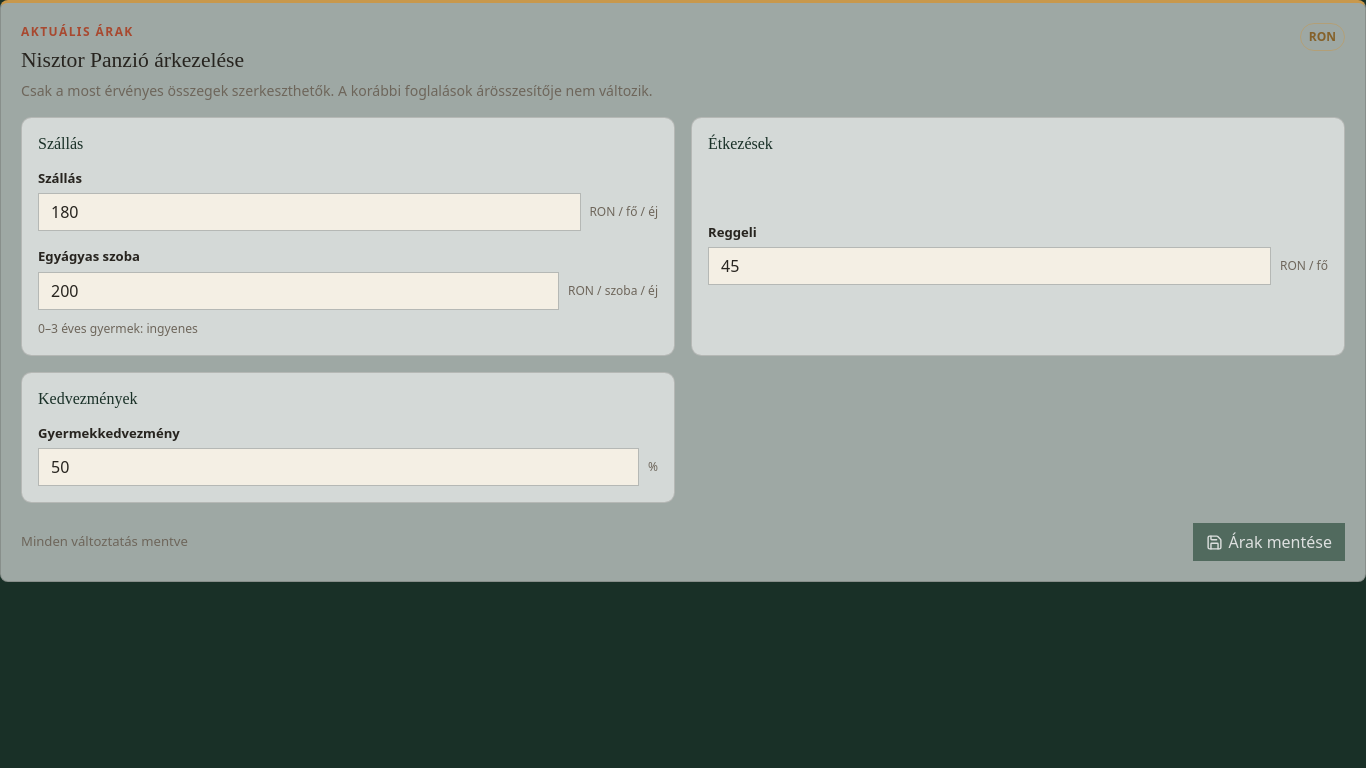
Test case: AdminGuesthousePricingEditor › loads, edits, and saves the current guesthouse prices
Replace the text in the number field labelled "Szállás" with "195": (309, 212) top-left (38, 194), bottom-right (581, 232)
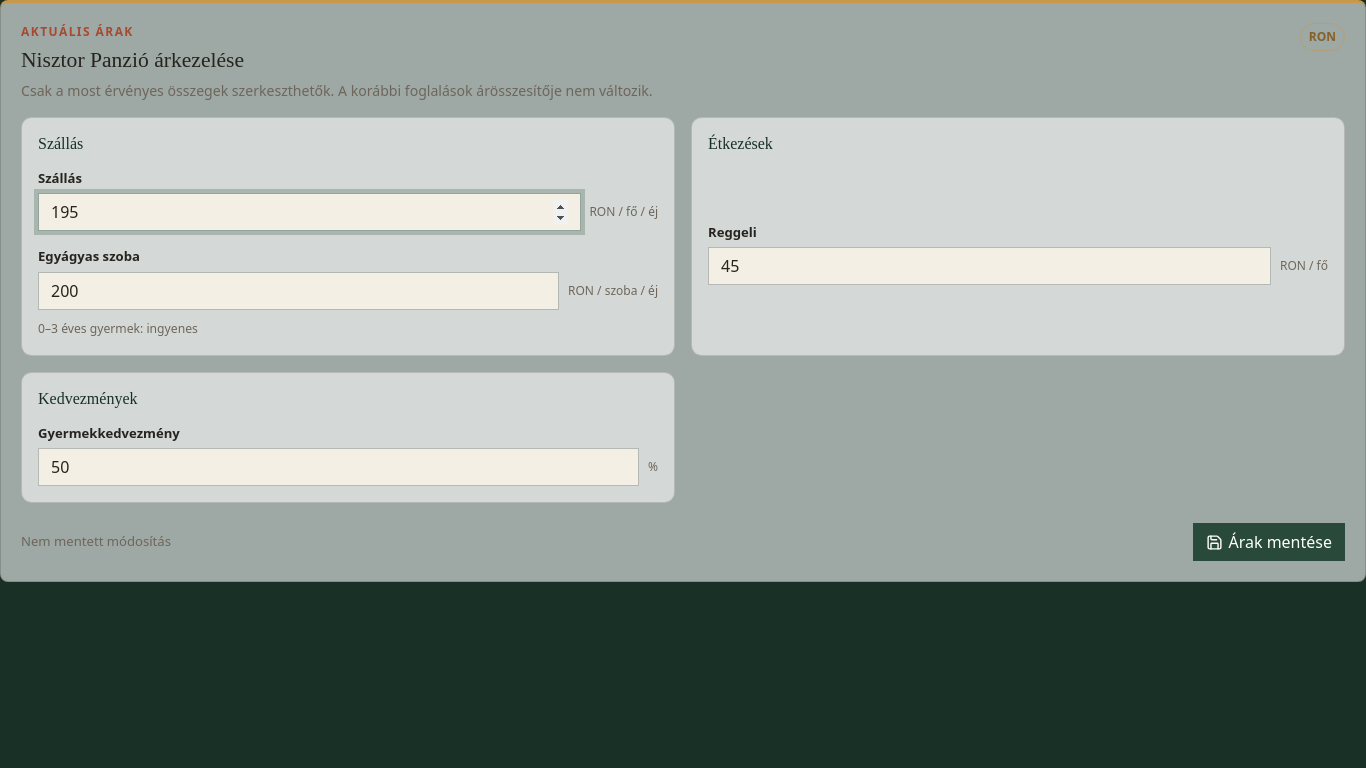
Click the button "Árak mentése": click(1269, 542) top-left (1193, 523), bottom-right (1345, 561)
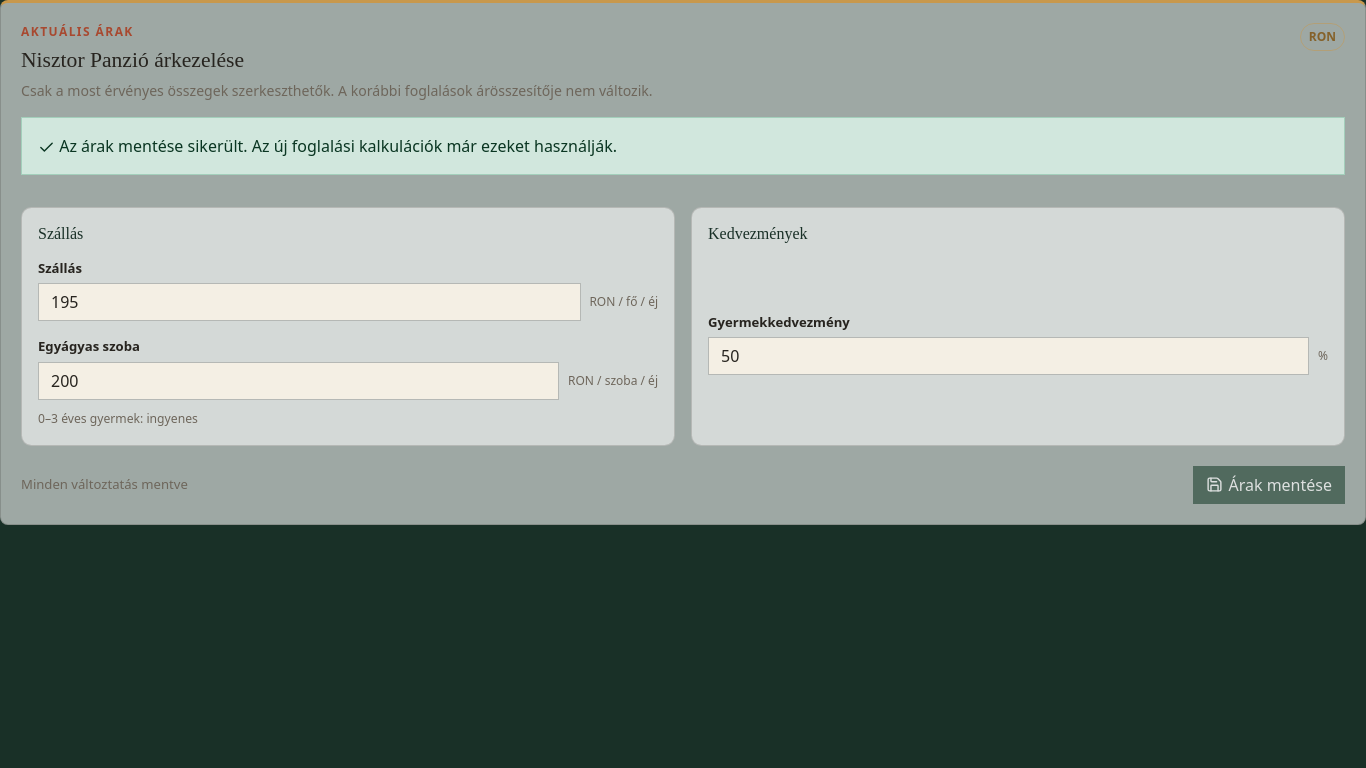
Expected: the text "Az árak mentése sikerült. Az új foglalási kalkulációk már ezeket használják." is shown, top-left (21, 117), bottom-right (1345, 175)
